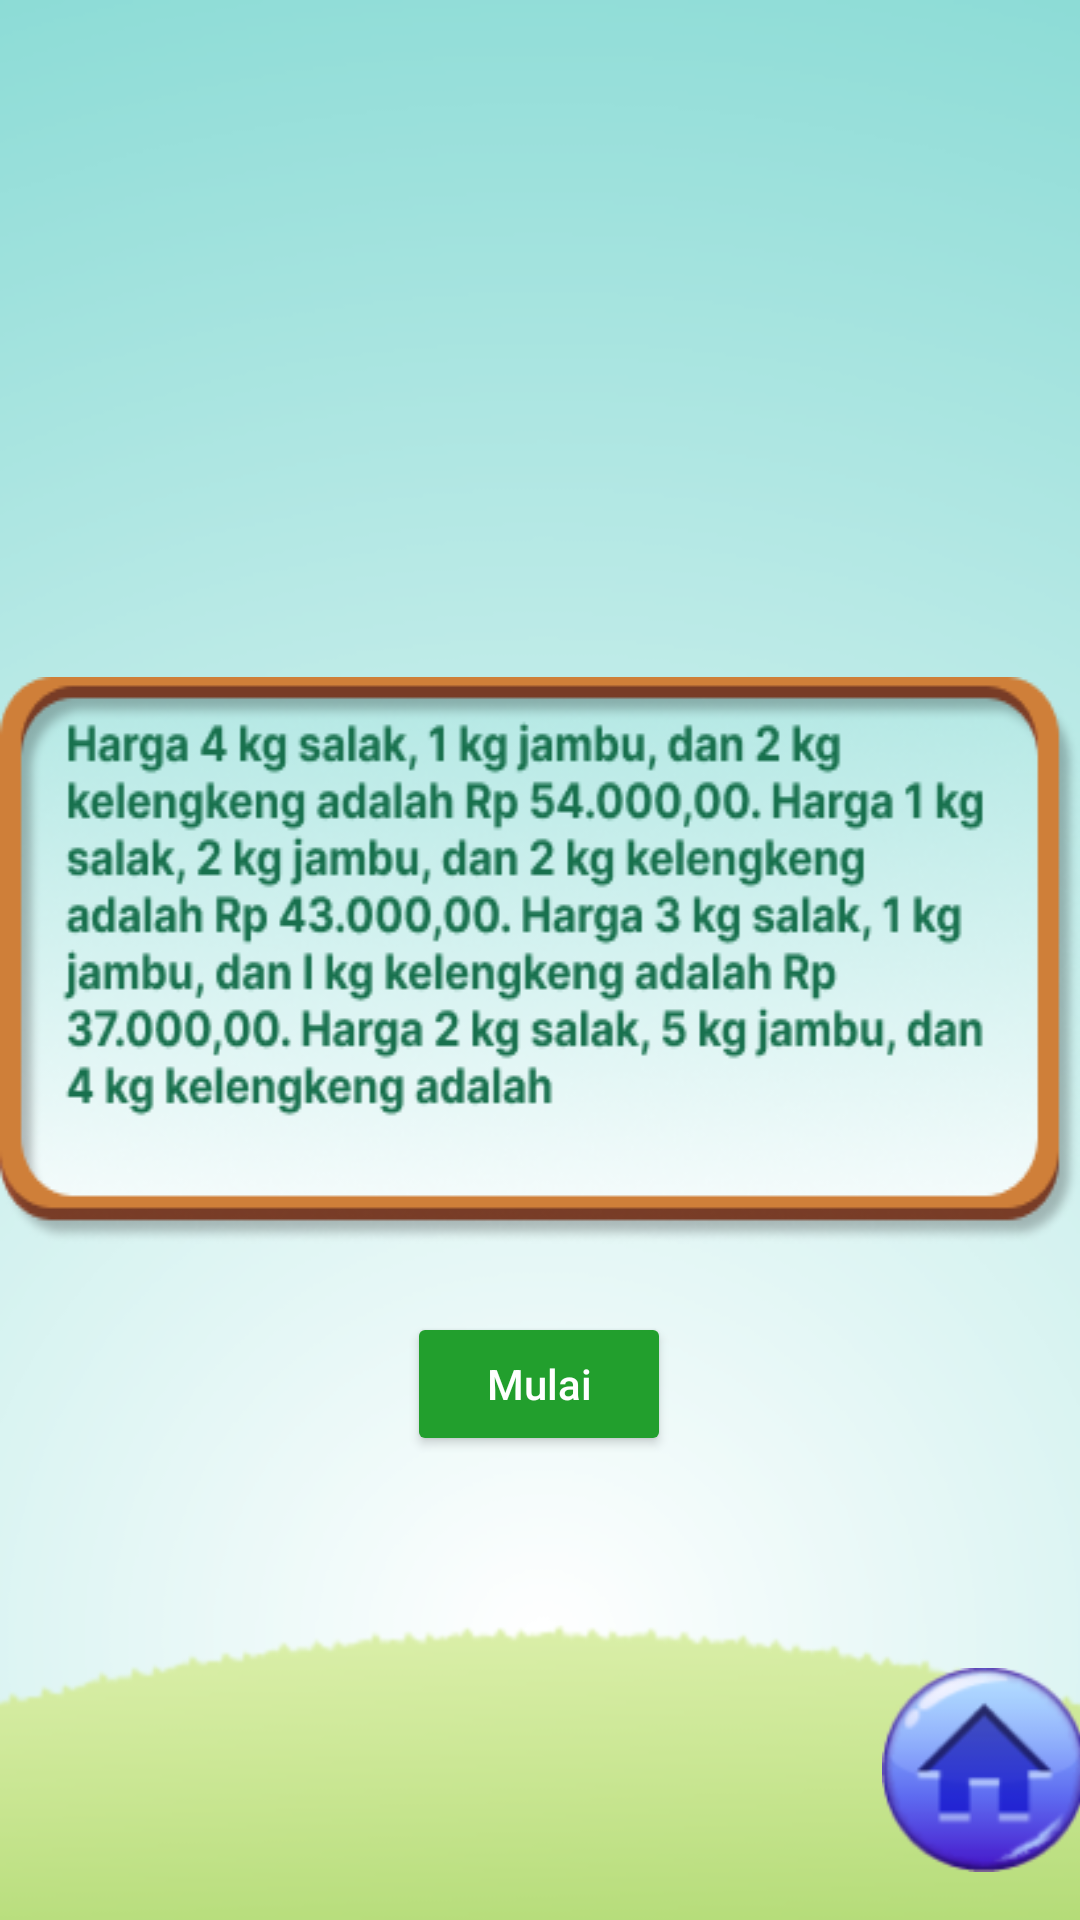

Named icons in this screenshot (1080w x 1920h) and their centers, point (x, y):
Home: point (981, 1770)
